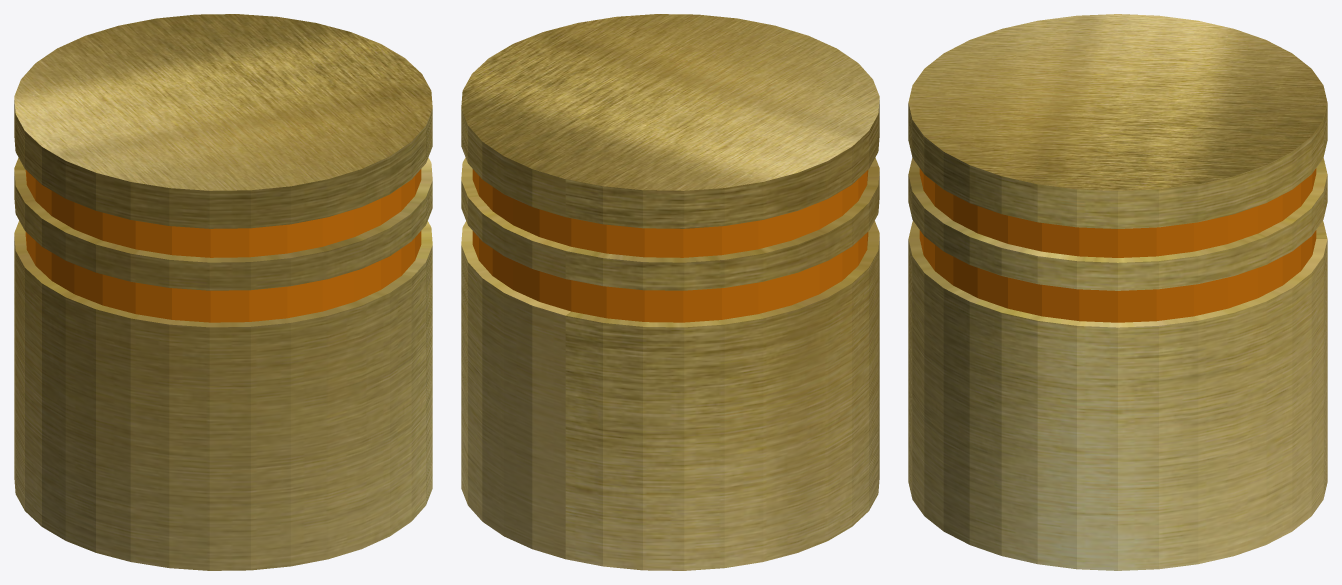
Rendered from brass.fbx.
3 renders of one model, left to right at view 1: azimuth 30°, elevation 25°; view 2: azimuth 150°, elevation 25°; view 3: azimuth 270°, elevation 25°, orthographic.
Visible parts, largest first — view 1: Латунь, Металл.003; view 2: Латунь, Металл.003; view 3: Латунь, Металл.003.
Boxes of the visible parts, left/top/right/bottom form: Латунь: left=14, top=14, right=432, bottom=570; Металл.003: left=25, top=169, right=421, bottom=322; Латунь: left=461, top=14, right=879, bottom=570; Металл.003: left=472, top=169, right=868, bottom=322; Латунь: left=908, top=14, right=1327, bottom=570; Металл.003: left=919, top=168, right=1316, bottom=322.
Size of the model in its own units: 1 by 1 by 1.
2 materials, 1 textured.
